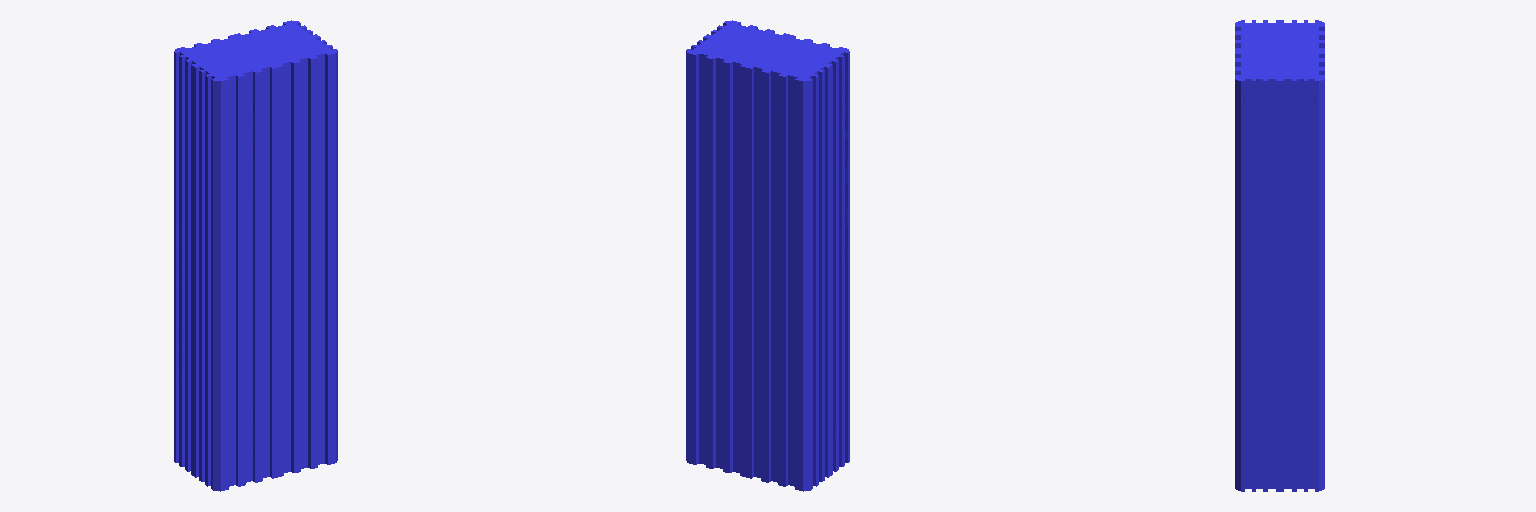
robot.urdf — industreal_rectangular_peg_16mm:
<?xml version="1.0"?>
<robot name="industreal_rectangular_peg_16mm">
    <link name="industreal_rectangular_peg_16mm">
        <visual>
            <geometry>
                <!-- <mesh filename="../mesh/industreal_pegs/industreal_rectangular_peg_16mm.obj" scale="2 2 2" /> -->
                <mesh filename="../mesh/TVB_mesh/box_rectangular_peg_16mm_feature1.obj" scale="2 2 2"/>
                <!-- <mesh filename="../mesh/TVB_mesh/power_2prongs_shape1_plug.obj"/> -->
            </geometry>
            <material name="Blue">
                <color rgba="0.3 0.3 1 1"/>
            </material>
        </visual>
        <collision>
            <geometry>
                <!-- <mesh filename="../mesh/industreal_pegs/industreal_rectangular_peg_16mm.obj" scale="2 2 2"/> -->
                <mesh filename="../mesh/TVB_mesh/box_rectangular_peg_16mm_feature1.obj" scale="2 2 2"/>
                <!-- <mesh filename="../mesh/TVB_mesh/power_2prongs_shape1_plug.obj"/> -->
            </geometry>
            <sdf resolution="256"/>
        </collision>
    </link>
</robot>

--- Facts derived from the render (not from the file) ---
Views: 3 orthographic renders of the robot side by side, from view 1: azimuth 30°, elevation 25°; view 2: azimuth 150°, elevation 25°; view 3: azimuth 270°, elevation 25°.
Robot: industreal_rectangular_peg_16mm — 1 links, 0 joints (none); root link industreal_rectangular_peg_16mm; default pose: every joint at zero.
Visible links, largest first — view 1: industreal_rectangular_peg_16mm; view 2: industreal_rectangular_peg_16mm; view 3: industreal_rectangular_peg_16mm.
Link boxes in pixels (<box>): industreal_rectangular_peg_16mm: <box>174,20,337,491</box>; industreal_rectangular_peg_16mm: <box>686,20,849,491</box>; industreal_rectangular_peg_16mm: <box>1235,20,1324,491</box>.
Bounding box of the posed robot: 0.0319 × 0.0198 × 0.1 m (x, y, z).
Meshes: 1 distinct files referenced, 1 mesh visuals loaded (1 OBJ).
